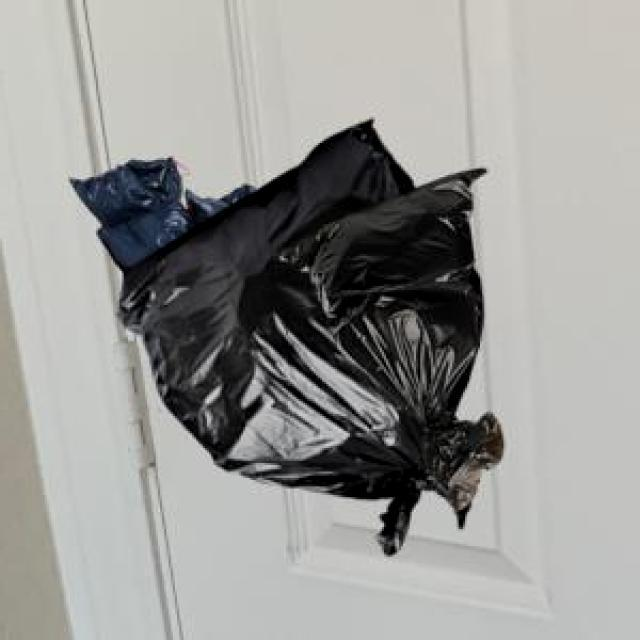Trashbag: (179, 124, 502, 520), (70, 148, 182, 232)
